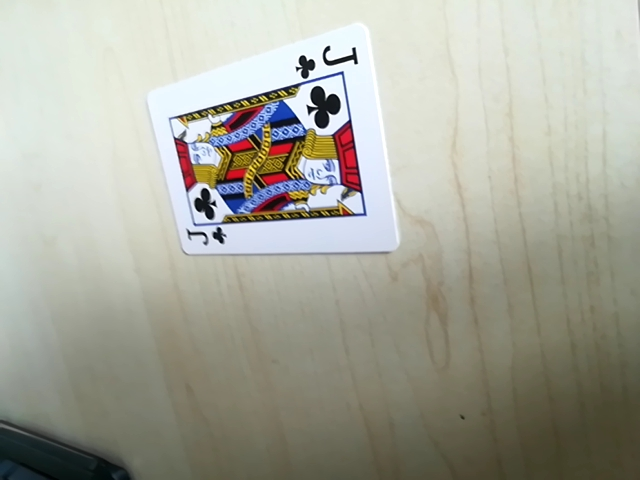mh j: (296, 39, 362, 78), (178, 213, 227, 253)
